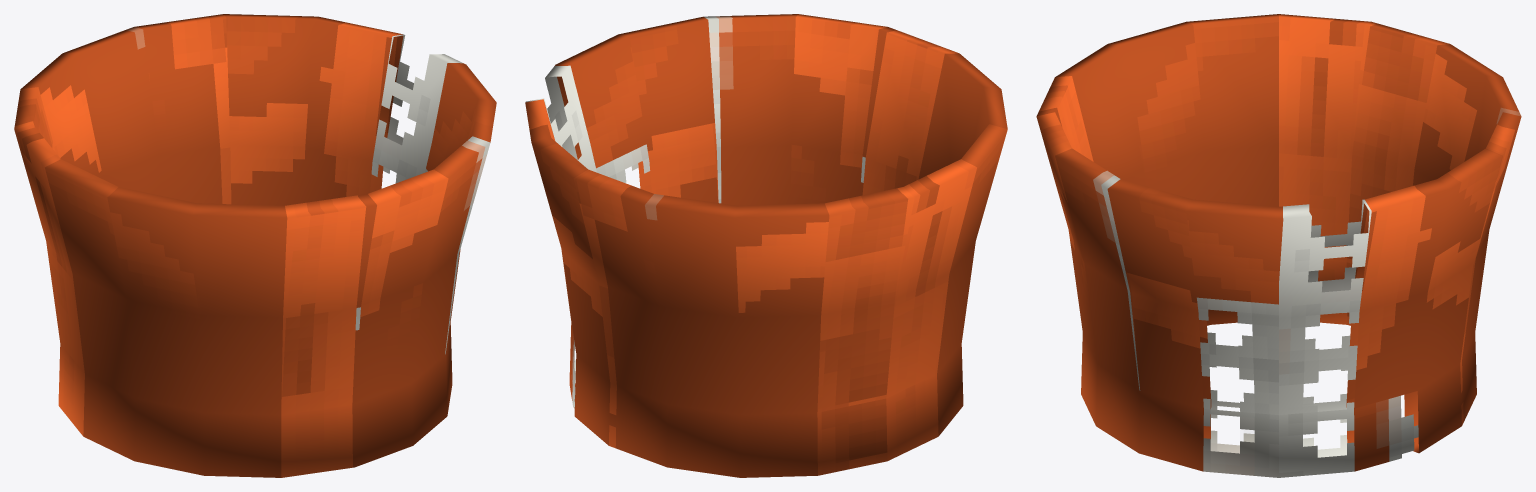
The model's file is BBallHoopCollision.glb.
3 renders of one model, left to right at view 1: azimuth 30°, elevation 25°; view 2: azimuth 150°, elevation 25°; view 3: azimuth 270°, elevation 25°, orthographic.
Visible parts, largest first — view 1: Cylinder.021; view 2: Cylinder.021; view 3: Cylinder.021.
Part boxes in pixels (<box>): Cylinder.021: <box>14,14,496,477</box>; Cylinder.021: <box>525,14,1007,477</box>; Cylinder.021: <box>1036,14,1521,477</box>.
Bounding box in the file's own units: 5.81 × 3.73 × 5.81.
1 material, 1 textured.
